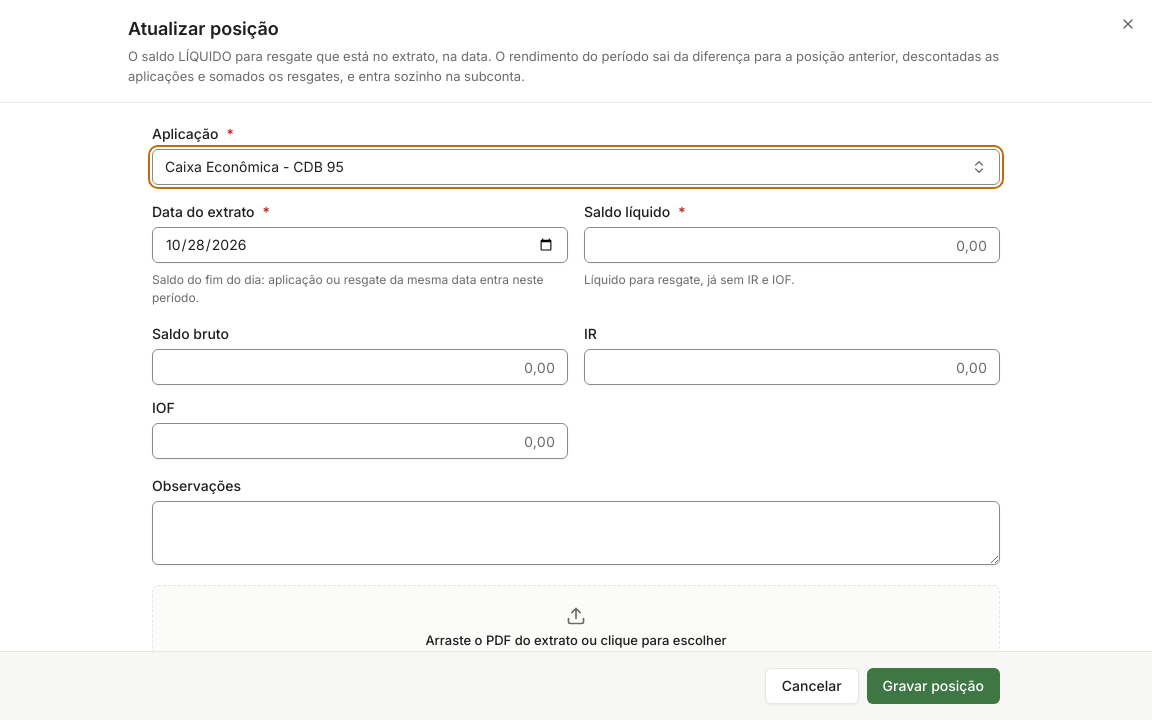
Test: PosicaoFormDrawer › sem CDI no período, diz isso no lugar do valor
This screenshot has width=1152, height=720.
Type "100850,00" into the field labelled "Saldo líquido *" at [792, 245], box [584,227,1000,263]
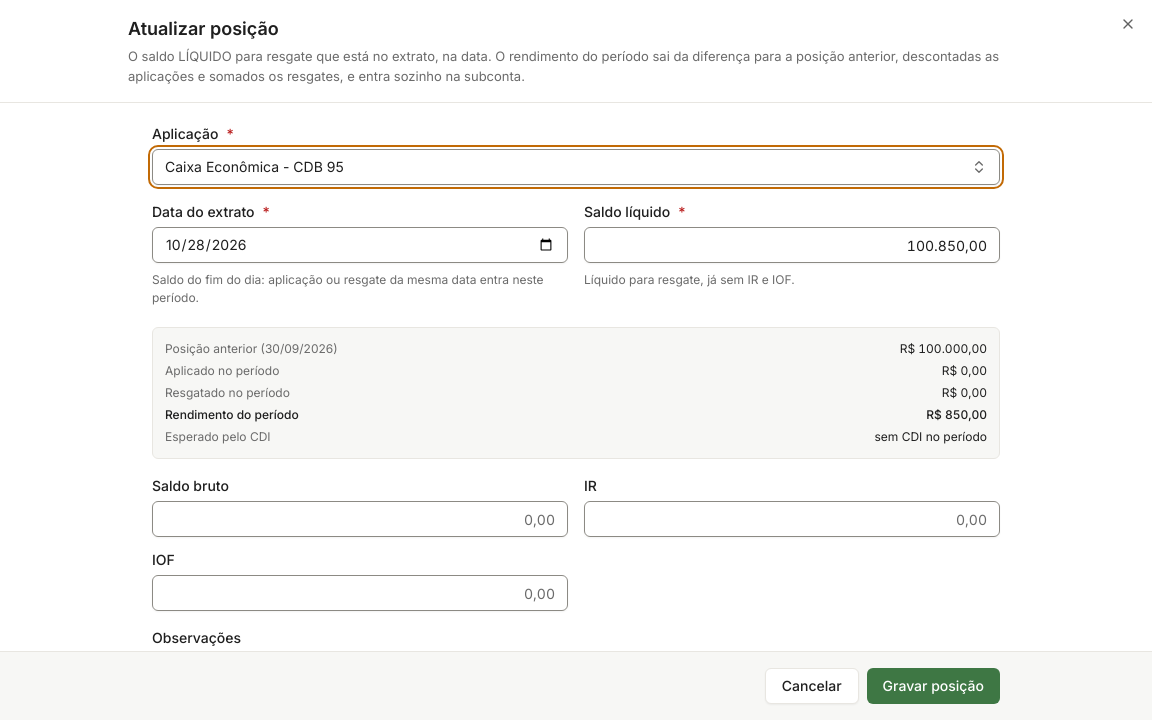
Expected: the text "sem CDI no período" is shown, [874,429,987,444]
